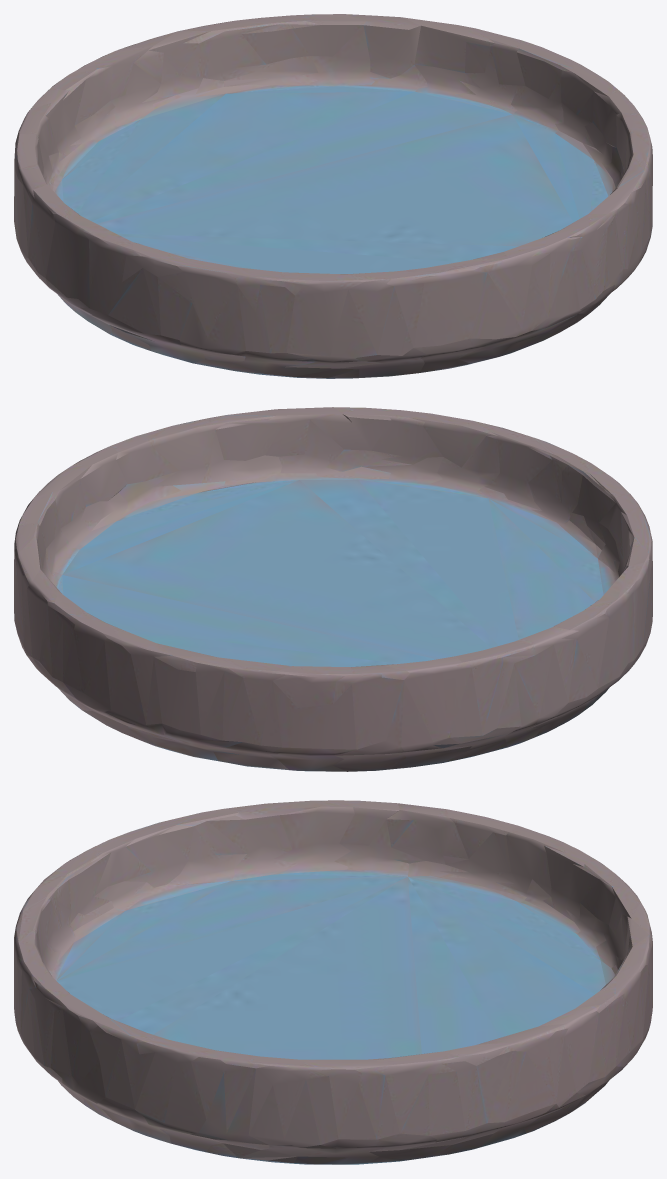
The model's file is plate.cbafe298.glb.
The picture shows the model from 3 angles, top to bottom: view 1: azimuth 30°, elevation 25°; view 2: azimuth 150°, elevation 25°; view 3: azimuth 270°, elevation 25°; orthographic projection.
Parts seen in each view (by area): view 1: output_unwrapped; view 2: output_unwrapped; view 3: output_unwrapped.
Boxes of the visible parts, <box> form: output_unwrapped: <box>14,14,652,378</box>; output_unwrapped: <box>14,407,652,771</box>; output_unwrapped: <box>14,800,652,1164</box>.
Size of the model in its own units: 1.9 by 0.3633 by 1.9.
Materials: 1 (1 with a texture image).
